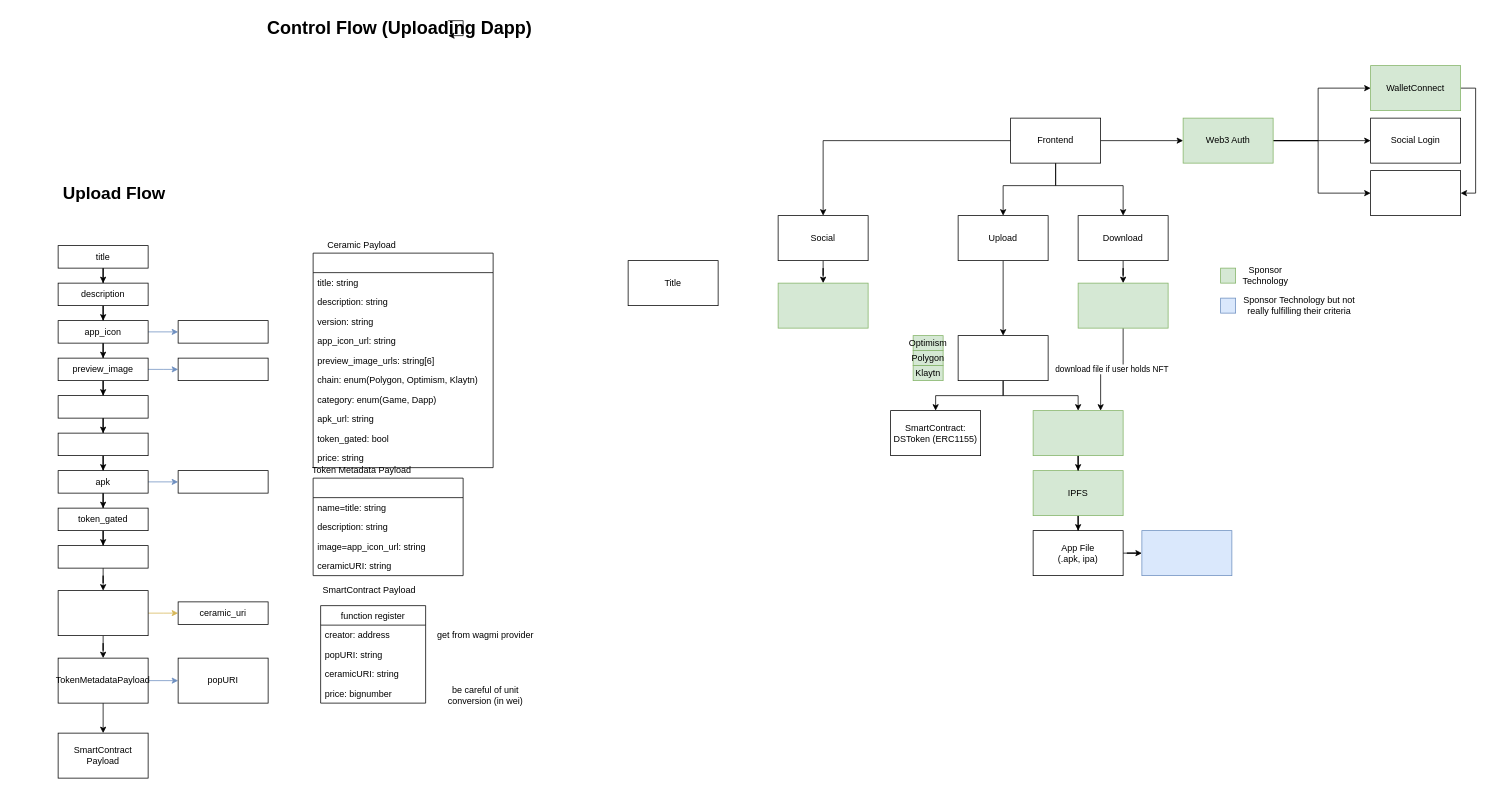
Image size: 1495x791. Some labels were removed from this diagram. The centre of each missing label's shape, as x and y in pixels:
apk_url: [222,481]
app_icon_url: [222,331]
category: [102,444]
Ceramic: [1077,433]
CeramicPayload: [102,613]
chain: [102,406]
ChainSafe, Unity, web3.unity: [1186,553]
Lens: [822,305]
Other Web3 Wallets: [1415,193]
preview_image_url: [222,369]
price: [102,556]
Quicknode: NFT Gating Check: [1122,305]
SmartContract: DappRegistry: [1002,358]
